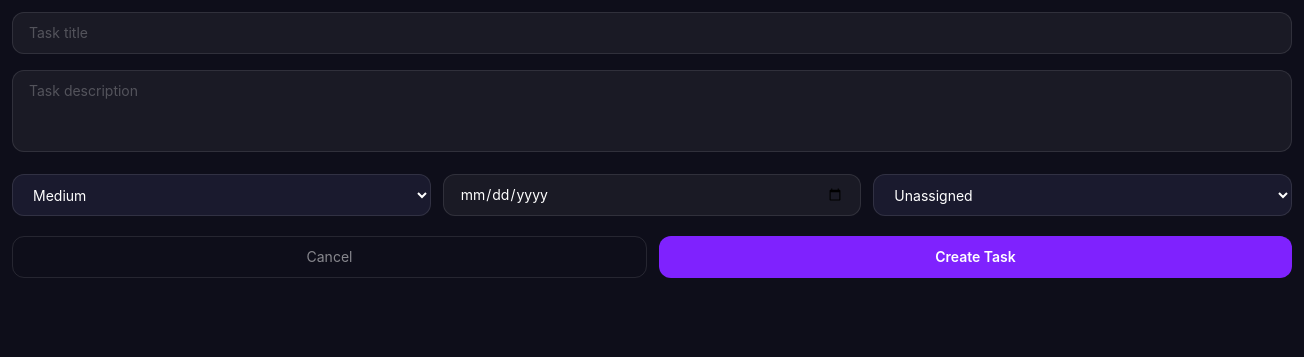
Scenario: TaskForm › shows create error when task creation fails
Type "Broken Task" into the field with placeholder "Task title" at (652, 33), box [12,12,1292,54]
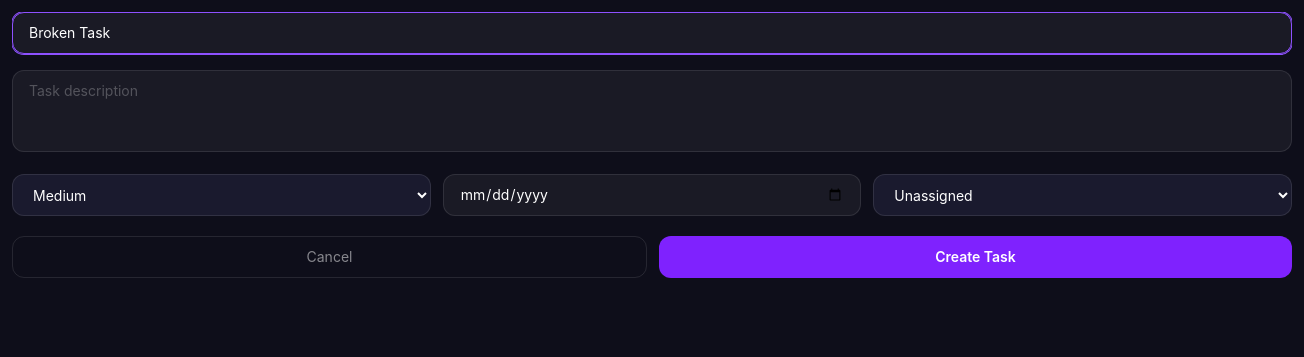
Click the button "Create Task" at (976, 257), box [659,236,1292,278]
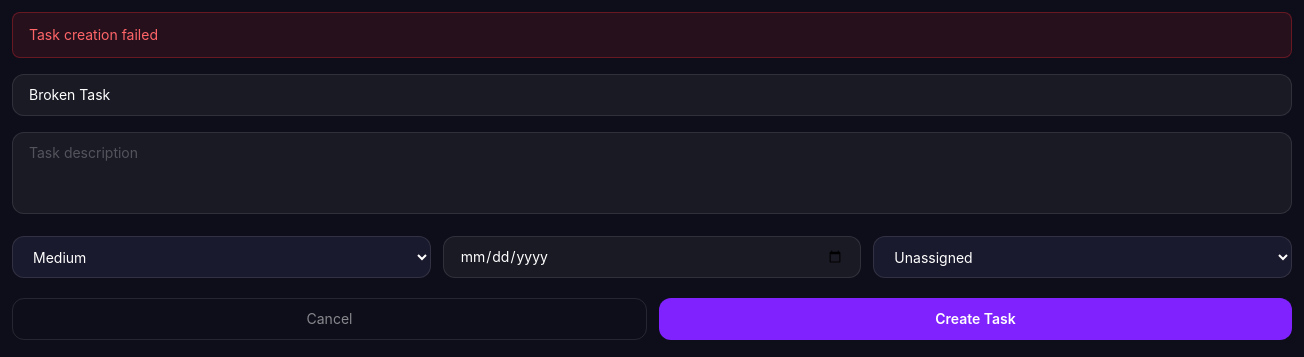
Check: the text "Task creation failed" is shown, box [12,12,1292,58]
